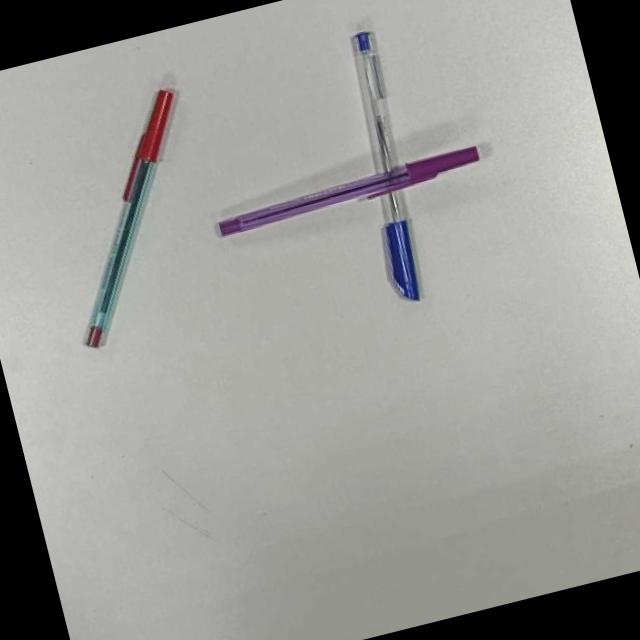caneta: (216, 143, 482, 240), (80, 88, 175, 349), (354, 31, 419, 303)
